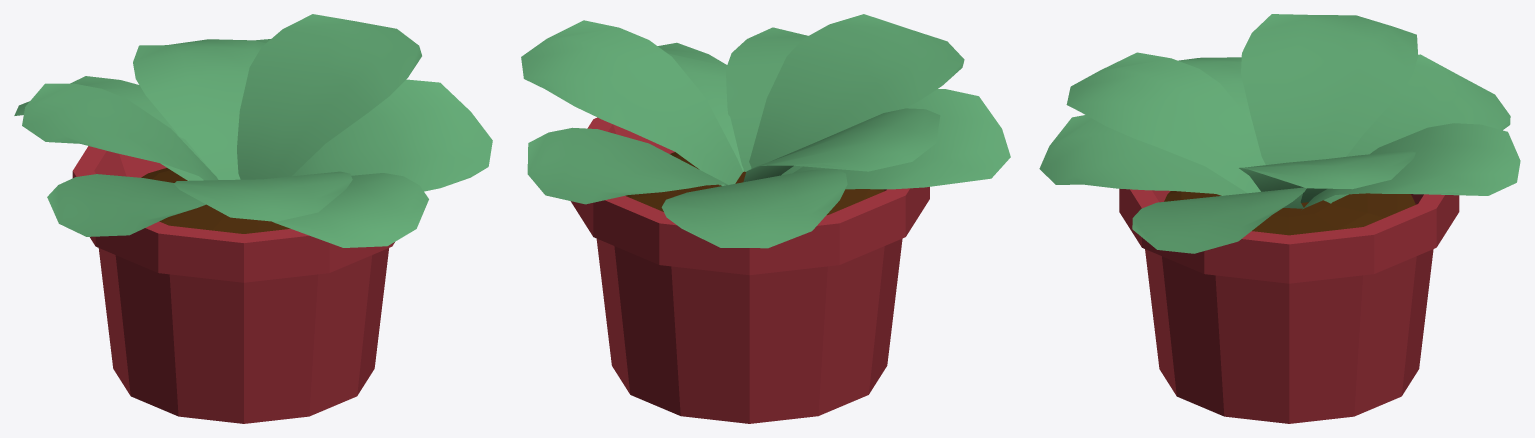
The model's file is msh_plants_10.fbx.
3 views of the same model, side by side, from view 1: azimuth 30°, elevation 25°; view 2: azimuth 150°, elevation 25°; view 3: azimuth 270°, elevation 25° (orthographic). The views are drawn at different scales.
Parts seen in each view (by area): view 1: pCylinder2, pPlane19, pPlane18, pPlane17, pPlane20, pPlane13, pPlane15, pPlane21, pSphere12, pPlane16; view 2: pCylinder2, pPlane21, pPlane19, pPlane16, pPlane17, pPlane15, pPlane20, pPlane13, pPlane18, pSphere12; view 3: pCylinder2, pPlane20, pPlane21, pPlane13, pPlane17, pPlane16, pPlane18, pPlane19, pSphere12, pPlane15.
Boxes of the visible parts, <box> form: pCylinder2: <box>72,146,394,423</box>; pPlane19: <box>237,14,421,179</box>; pPlane18: <box>292,79,492,191</box>; pPlane17: <box>133,39,270,179</box>; pPlane20: <box>22,83,218,180</box>; pPlane13: <box>272,173,428,247</box>; pPlane15: <box>47,174,205,236</box>; pPlane21: <box>174,171,352,221</box>; pSphere12: <box>141,168,290,233</box>; pPlane16: <box>14,76,212,180</box>; pCylinder2: <box>570,117,929,423</box>; pPlane21: <box>749,14,964,175</box>; pPlane19: <box>521,20,742,185</box>; pPlane16: <box>661,169,847,248</box>; pPlane17: <box>527,127,728,204</box>; pPlane15: <box>793,89,1010,189</box>; pPlane20: <box>743,108,940,182</box>; pPlane13: <box>725,27,807,171</box>; pPlane18: <box>658,42,743,185</box>; pSphere12: <box>625,152,884,215</box>; pCylinder2: <box>1119,188,1459,423</box>; pPlane20: <box>1241,14,1418,164</box>; pPlane21: <box>1066,52,1265,193</box>; pPlane13: <box>1039,115,1247,195</box>; pPlane17: <box>1302,123,1520,209</box>; pPlane16: <box>1324,54,1510,203</box>; pPlane18: <box>1132,187,1306,253</box>; pPlane19: <box>1239,150,1415,202</box>; pSphere12: <box>1164,191,1415,235</box>; pPlane15: <box>1178,57,1253,126</box>.
Size of the model in its own units: 0.8909 by 0.582 by 0.9145.
